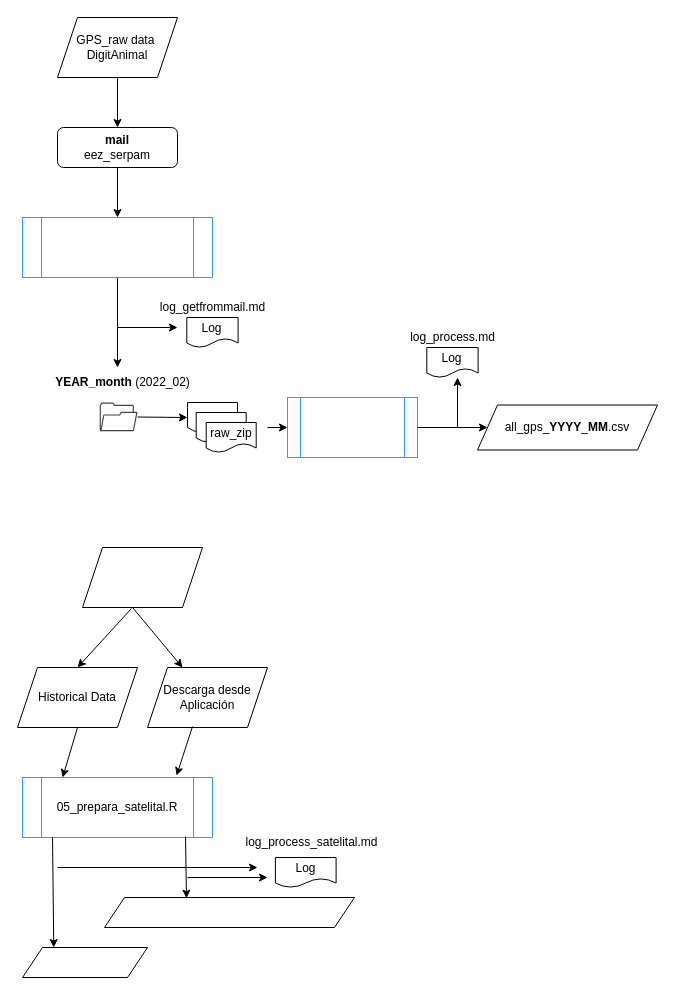
Image size: 675x995. Some labels were removed from this diagram. Each missing label, with the centre of its shape:
"01_getGPS_from_mail.R" goes at (117,247).
"02_extractGPS.R" goes at (352,427).
"descarga_aplicacion_ YYYY _ MM_DD .csv" goes at (229,912).
"GPS_raw data Domodis" goes at (142,577).
"historicos.csv" goes at (85,962).
